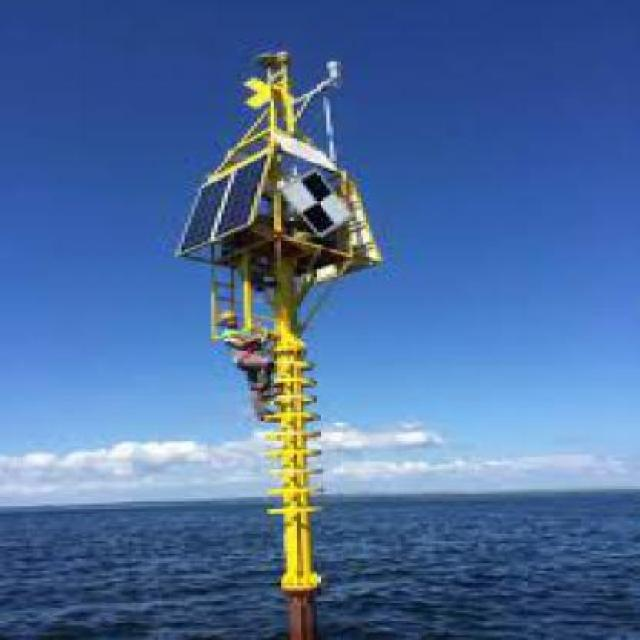buoy: (163, 36, 394, 639)
